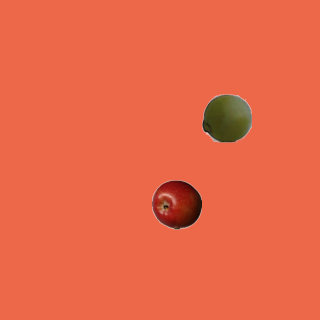Apple Braeburn: (151, 179, 201, 229)
Grape White 4: (201, 92, 251, 142)
